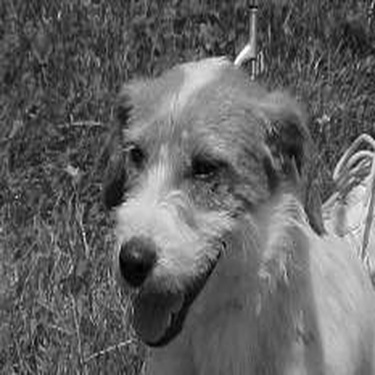dog: (82, 49, 368, 372)
